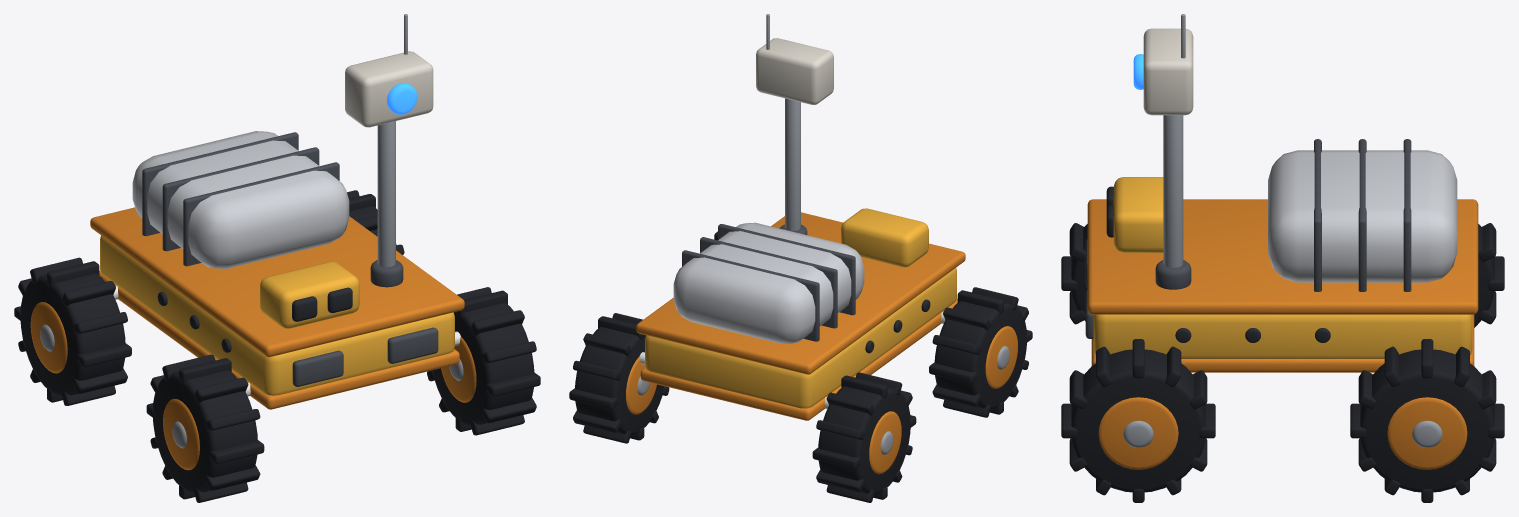
The model's file is rover.glb.
The picture shows the model from 3 angles, left to right: view 1: azimuth 30°, elevation 25°; view 2: azimuth 150°, elevation 25°; view 3: azimuth 270°, elevation 25°; orthographic projection. The views are drawn at different scales.
Parts seen in each view (by area): view 1: Cube.005, Cube.001, Cube, Cylinder.017, Cylinder.012, Cylinder.022, Cube.012, Cube.002, Cube.009, Cylinder.007, Cylinder.018, Cylinder.013 (+23 smaller); view 2: Cube.005, Cube.001, Cube, Cylinder.017, Cylinder.012, Cube.012, Cylinder.027, Cube.009, Cube.002, Cylinder.007, Cylinder.013, Cylinder.018 (+15 smaller); view 3: Cube.001, Cube.005, Cube, Cylinder.022, Cylinder.027, Cube.012, Cylinder.023, Cylinder.028, Cube.009, Cylinder.007, Cube.002, Cube.007 (+19 smaller).
Part boxes in pixels (bbox=[...]): Cube.005: bbox=[132, 131, 349, 268]; Cube.001: bbox=[90, 207, 464, 356]; Cube: bbox=[100, 235, 454, 395]; Cylinder.017: bbox=[20, 273, 125, 396]; Cylinder.012: bbox=[153, 370, 257, 493]; Cylinder.022: bbox=[432, 303, 534, 425]; Cube.012: bbox=[345, 51, 433, 127]; Cube.002: bbox=[99, 270, 459, 409]; Cube.009: bbox=[260, 261, 359, 328]; Cylinder.007: bbox=[377, 121, 395, 267]; Cylinder.018: bbox=[30, 302, 67, 373]; Cylinder.013: bbox=[163, 398, 199, 470]; Cube.005: bbox=[673, 222, 864, 343]; Cube.001: bbox=[636, 212, 965, 374]; Cube: bbox=[645, 267, 956, 408]; Cylinder.017: bbox=[818, 386, 910, 494]; Cylinder.012: bbox=[934, 301, 1026, 409]; Cube.012: bbox=[756, 38, 833, 104]; Cylinder.027: bbox=[575, 327, 664, 435]; Cube.009: bbox=[841, 208, 928, 267]; Cube.002: bbox=[640, 298, 957, 420]; Cylinder.007: bbox=[785, 98, 800, 230]; Cylinder.013: bbox=[985, 326, 1017, 388]; Cylinder.018: bbox=[869, 411, 901, 474]; Cube.001: bbox=[1087, 199, 1478, 314]; Cube.005: bbox=[1268, 150, 1457, 282]; Cube: bbox=[1093, 314, 1472, 358]; Cylinder.022: bbox=[1071, 349, 1205, 492]; Cylinder.027: bbox=[1360, 349, 1494, 492]; Cube.012: bbox=[1143, 28, 1193, 115]; Cylinder.023: bbox=[1098, 397, 1178, 469]; Cylinder.028: bbox=[1387, 397, 1467, 469]; Cube.009: bbox=[1113, 177, 1163, 252]; Cylinder.007: bbox=[1163, 115, 1183, 267]; Cube.002: bbox=[1091, 314, 1474, 372]; Cube.007: bbox=[1358, 139, 1366, 291].
Size of the model in its own units: 4.2 by 4.95 by 4.45.
